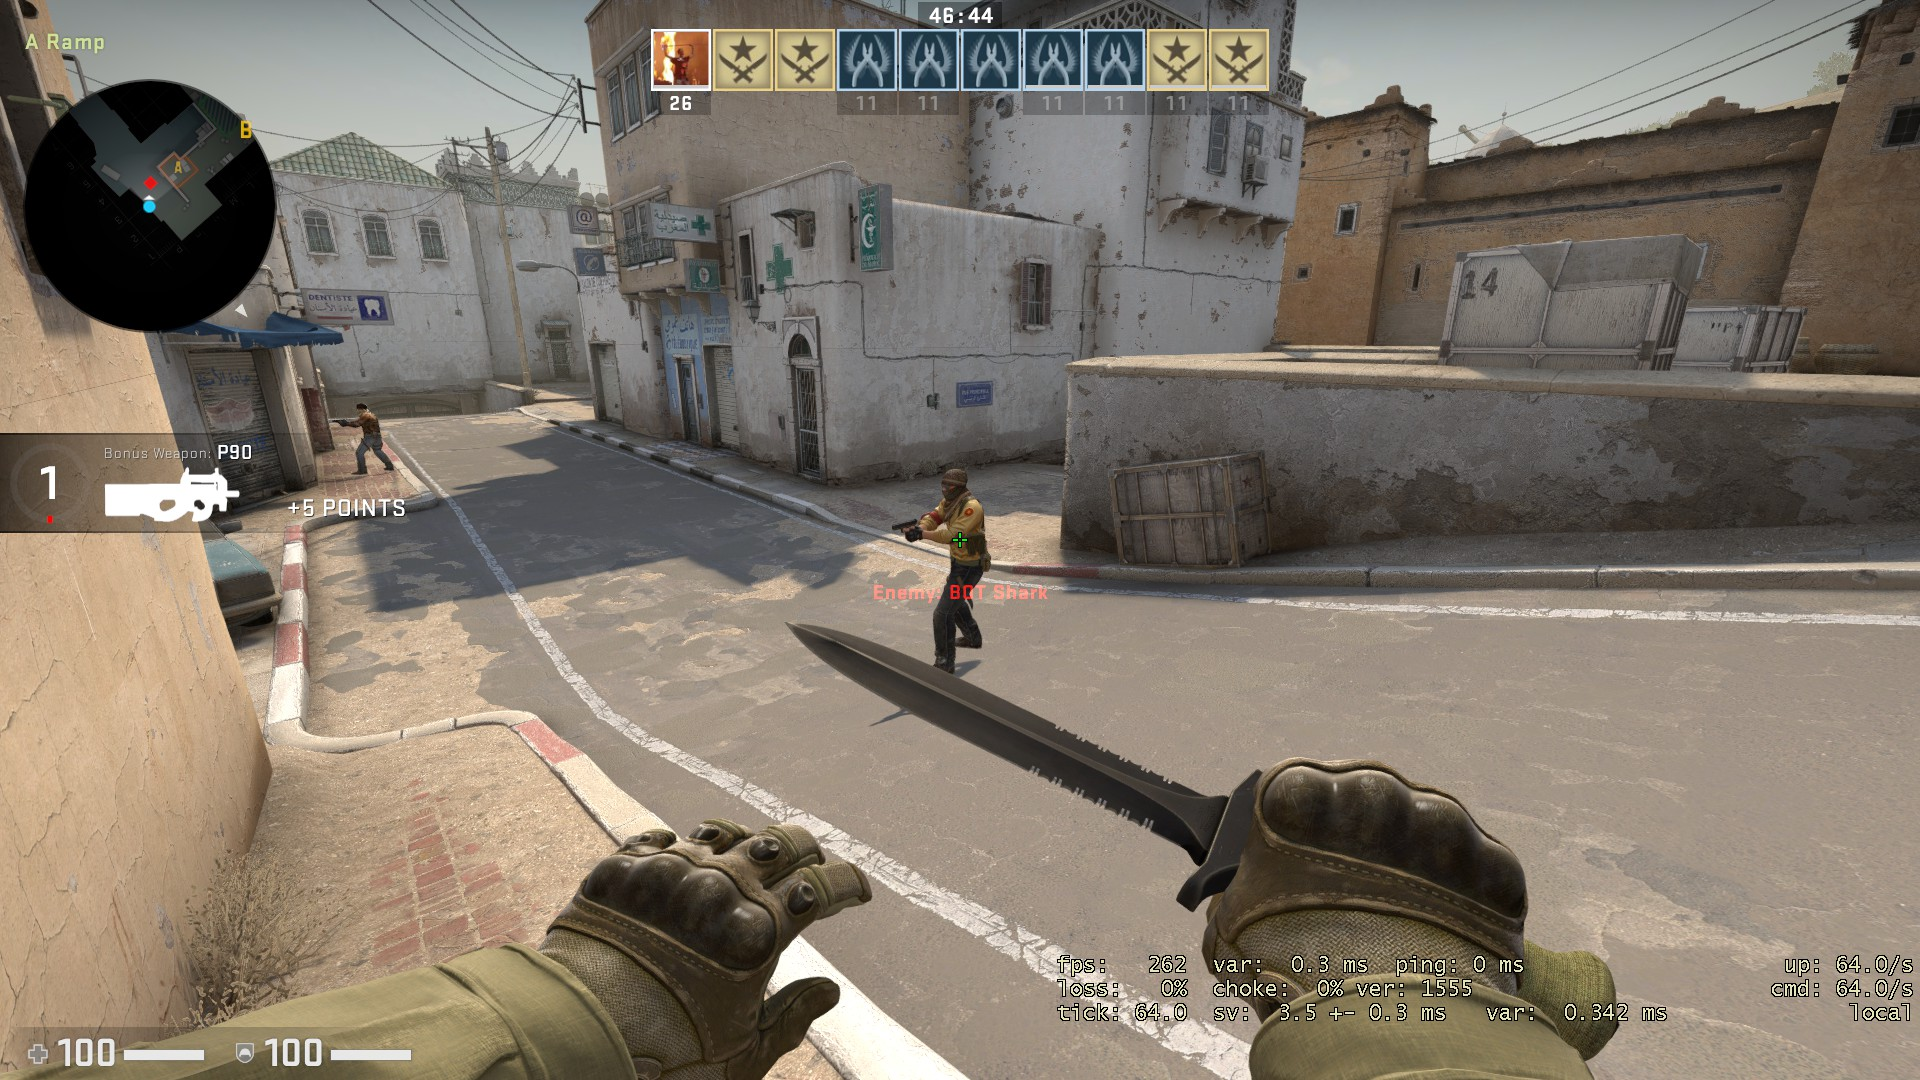player: (887, 464, 995, 682)
